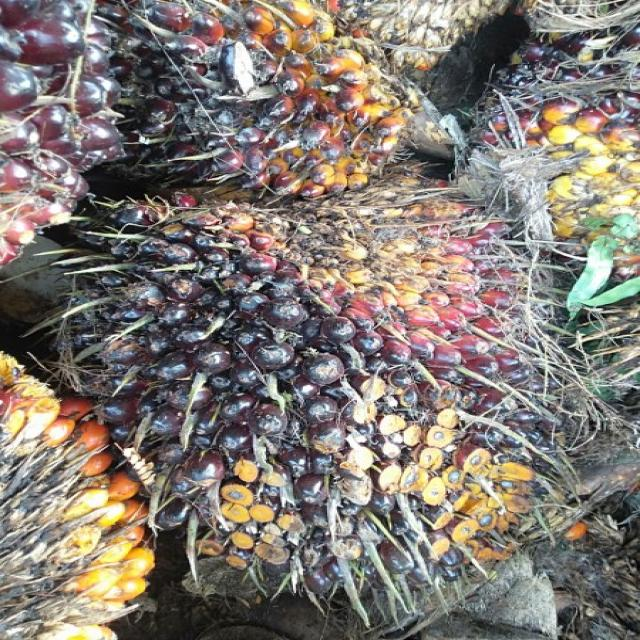fraksi 00: (35, 114, 620, 620)
